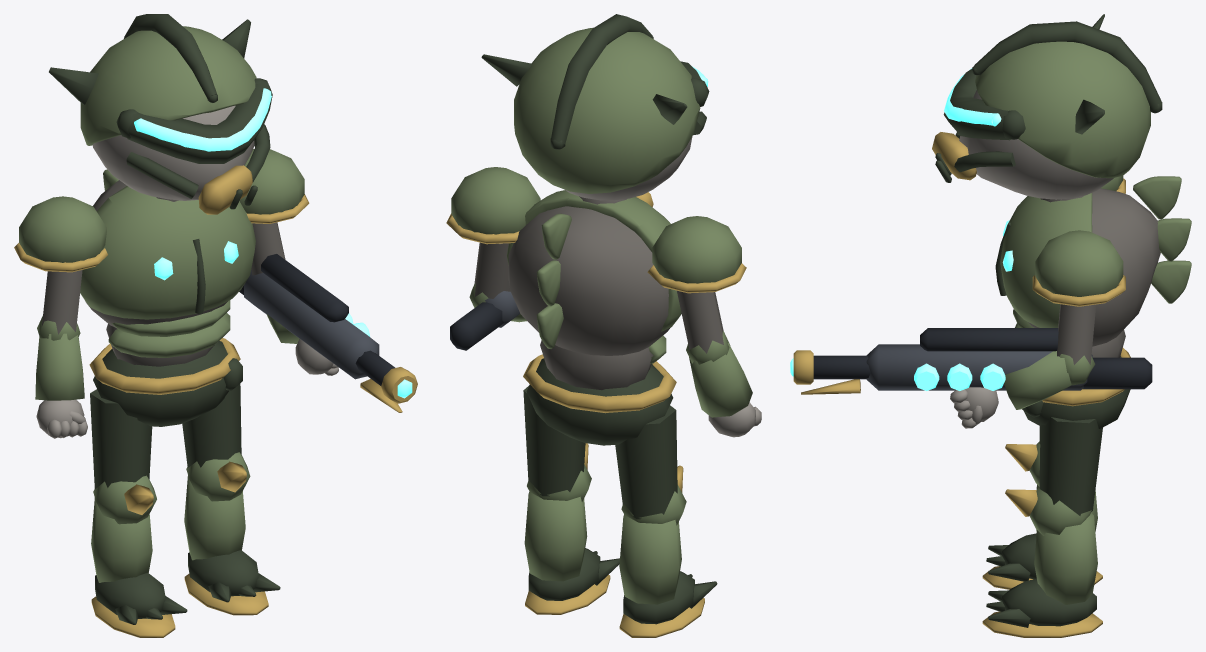
The model's file is npc_chitauri.glb.
3 views of the same model, side by side, from view 1: azimuth 30°, elevation 25°; view 2: azimuth 150°, elevation 25°; view 3: azimuth 270°, elevation 25° (orthographic).
Visible parts, largest first — view 1: Body, Head, ArmR, LegL, LegR, ArmL; view 2: Body, Head, LegL, ArmL, LegR, ArmR; view 3: Head, ArmR, Body, LegR, LegL.
Boxes of the visible parts, left/top/right/bottom form: Body: left=80, top=169, right=255, bottom=426; Head: left=49, top=14, right=272, bottom=214; ArmR: left=239, top=149, right=417, bottom=412; LegL: left=90, top=389, right=187, bottom=637; LegR: left=182, top=384, right=280, bottom=615; ArmL: left=14, top=196, right=107, bottom=438; Body: left=506, top=190, right=681, bottom=445; Head: left=481, top=14, right=709, bottom=200; LegL: left=615, top=405, right=717, bottom=637; ArmL: left=647, top=216, right=761, bottom=437; LegR: left=523, top=385, right=619, bottom=614; ArmR: left=446, top=167, right=653, bottom=350; Head: left=932, top=14, right=1162, bottom=199; ArmR: left=790, top=230, right=1152, bottom=428; Body: left=995, top=176, right=1191, bottom=428; LegR: left=982, top=417, right=1102, bottom=637; LegL: left=982, top=426, right=1102, bottom=589.
Size of the model in its own units: 0.492 by 0.9587 by 0.6043.
